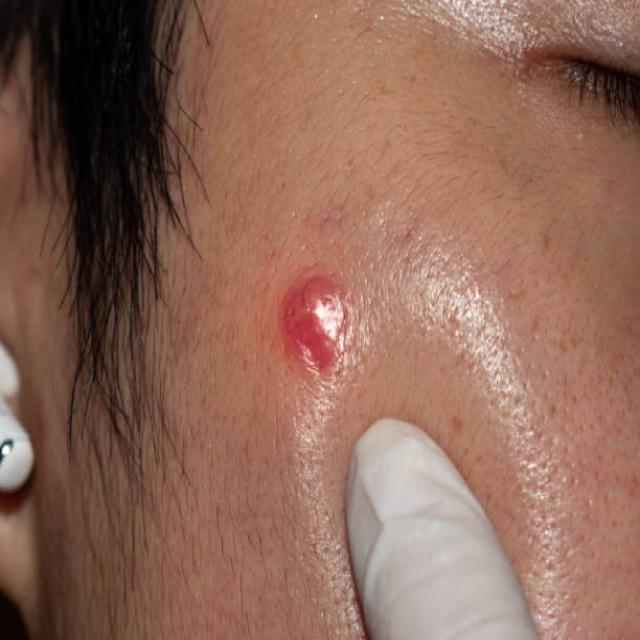Dry-Skin: (274, 116, 437, 446), (484, 137, 606, 451), (121, 341, 247, 608), (206, 40, 316, 258)
